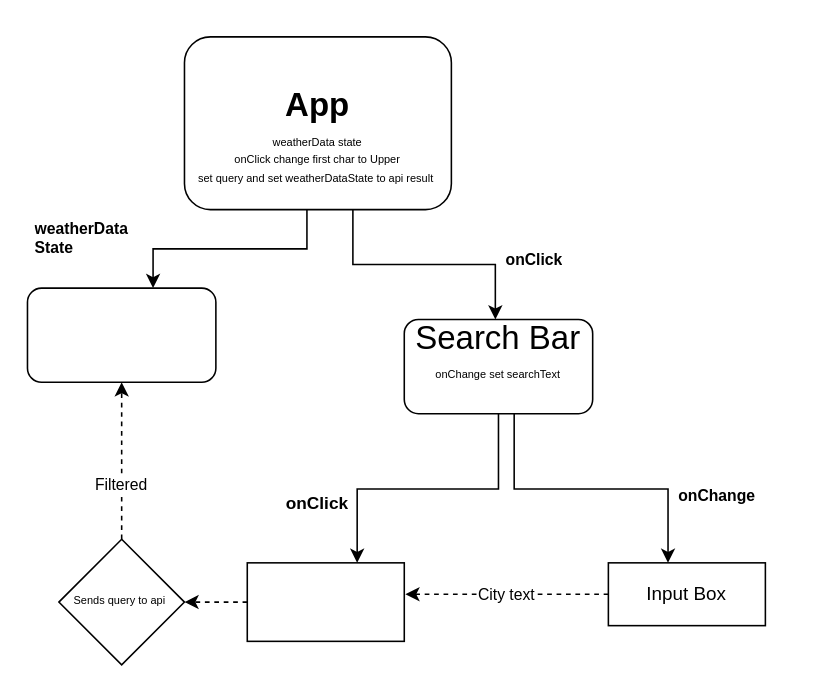
This 840x692 diagram has some shape labels left out. The shapes that lost their labels are listed below. From the top down, each one's box as (x1, y1, x2, y2) in pixels, then its label:
(26, 287, 216, 382): Results Display
(246, 561, 404, 641): Submit Button sends api query
